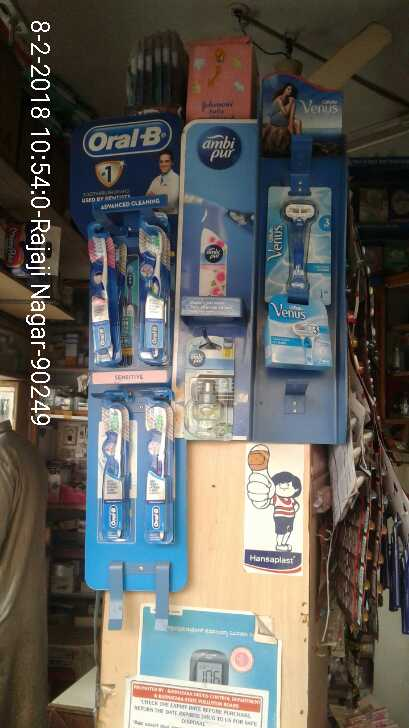beauty: (262, 187, 339, 309), (269, 301, 332, 362)
home: (184, 337, 239, 436)
pharmacy: (78, 218, 125, 354), (91, 405, 130, 534), (142, 399, 177, 541), (132, 221, 168, 349)
